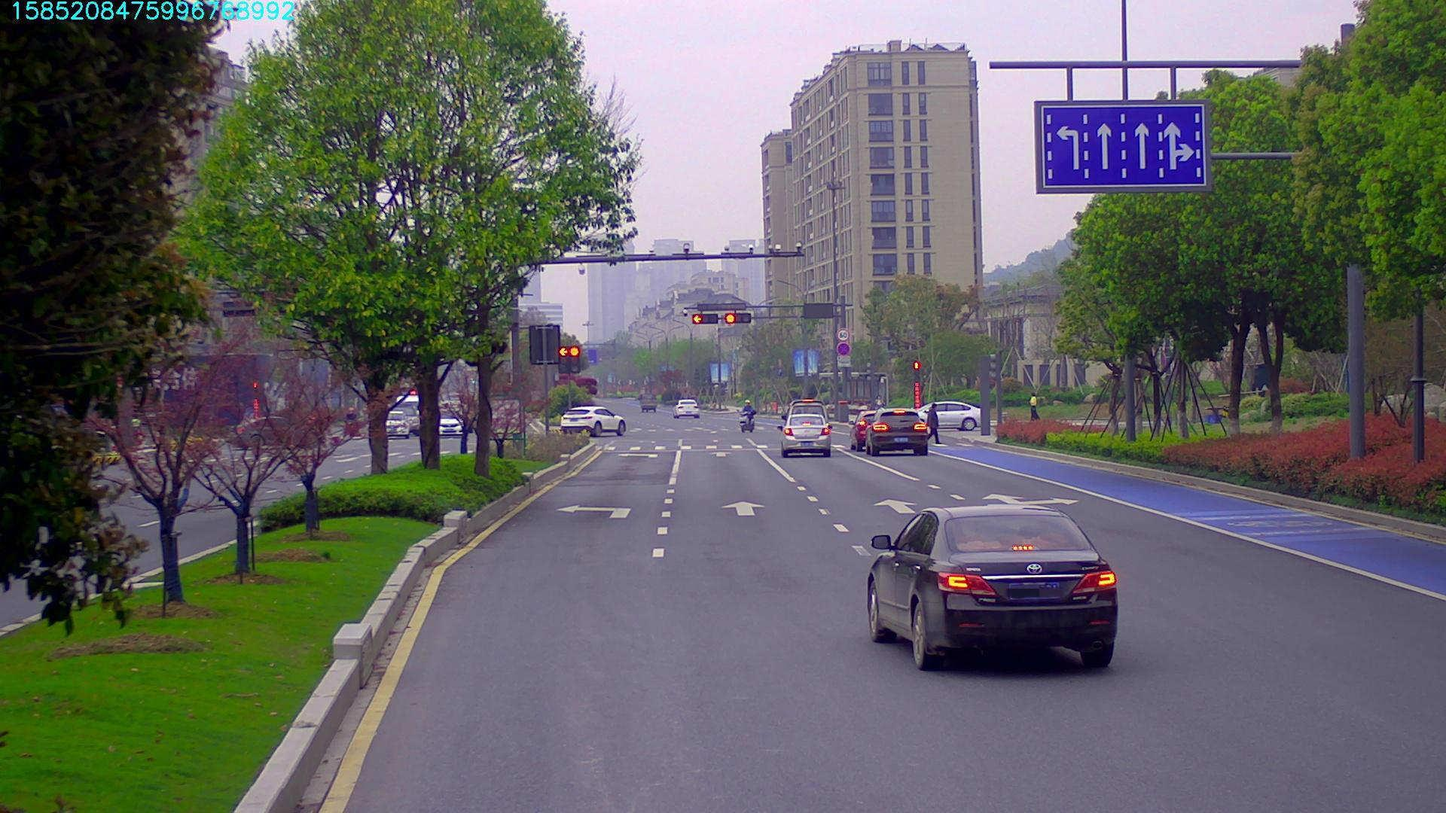red: (721, 311, 759, 330), (689, 311, 715, 328)
